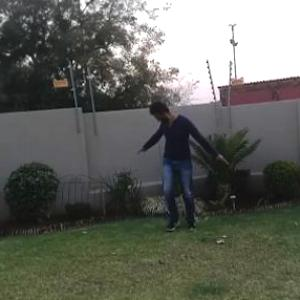land: (114, 88, 224, 248)
